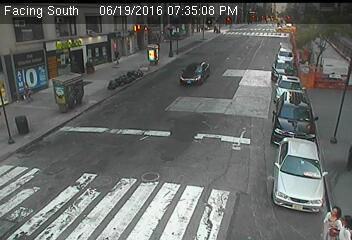neg: (20, 23, 33, 40), (55, 16, 63, 27), (65, 24, 71, 32)
pos: (321, 205, 347, 239), (19, 80, 35, 101), (340, 213, 351, 238), (110, 48, 122, 64)
